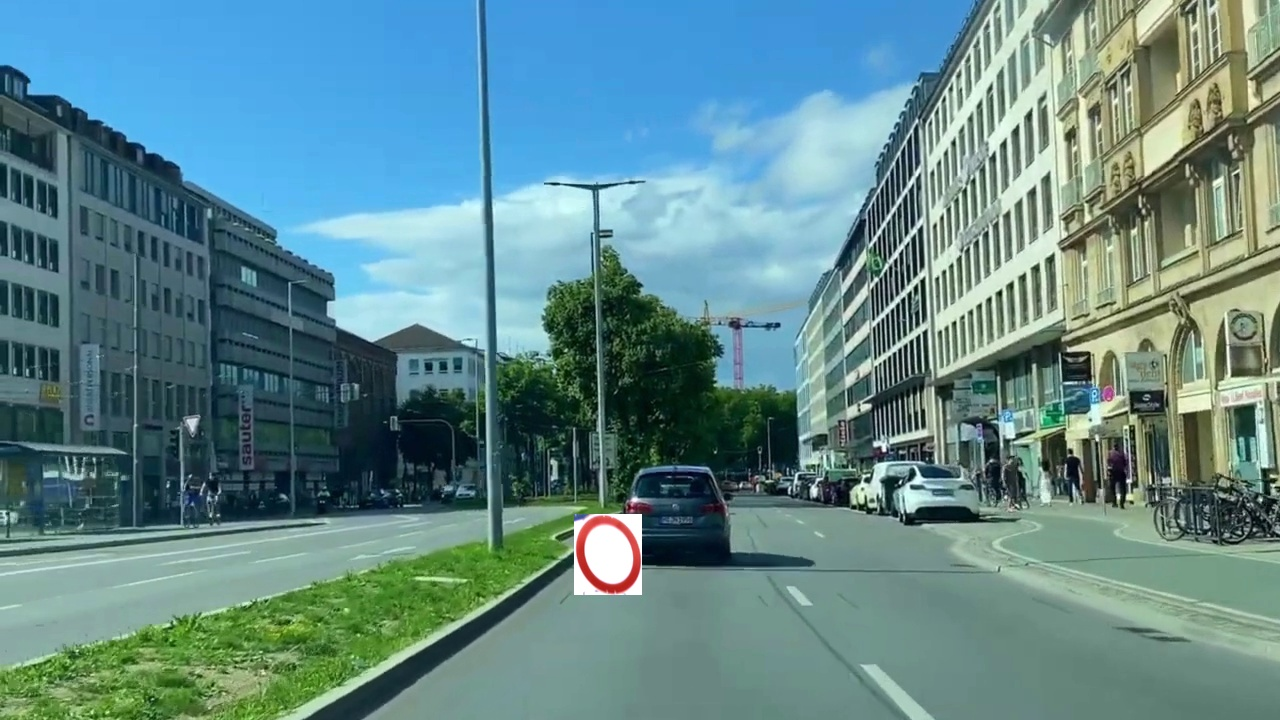No vehicles: (574, 514, 642, 595)
